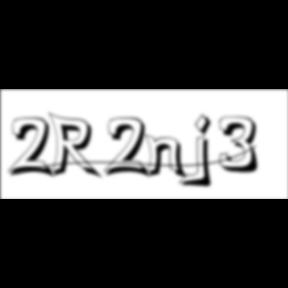2: (8, 117, 58, 181), (104, 117, 154, 181)
3: (220, 116, 266, 176)
R: (48, 112, 106, 182)
j: (192, 113, 218, 191)
n: (144, 132, 192, 181)
